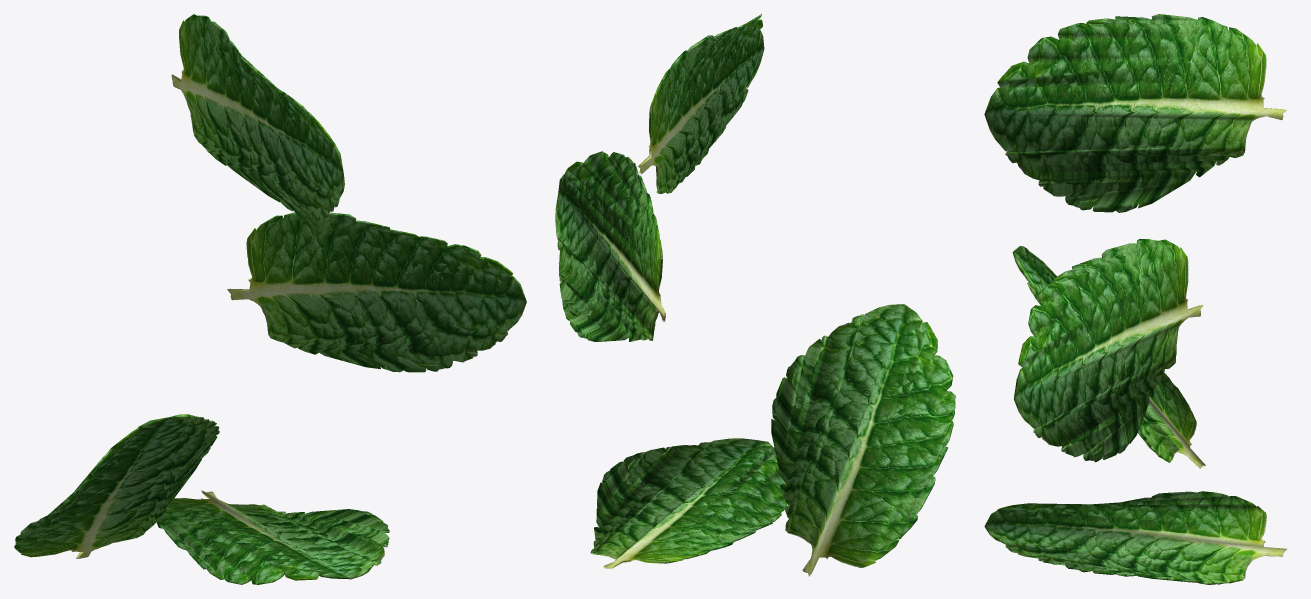
File: mint group.fbx
3 views of the same model, side by side, from view 1: azimuth 30°, elevation 25°; view 2: azimuth 150°, elevation 25°; view 3: azimuth 270°, elevation 25° (orthographic). The views are drawn at different scales.
Parts seen in each view (by area): view 1: menta__3_, menta__2_, menta, menta__1_; view 2: menta__1_, menta, menta__3_, menta__2_; view 3: menta__2_, menta__3_, menta, menta__1_.
Boxes of the visible parts, x1,y1,x2,y2 form: menta__3_: [227, 212, 526, 372]; menta__2_: [171, 14, 344, 220]; menta: [156, 490, 389, 584]; menta__1_: [14, 414, 219, 558]; menta__1_: [771, 304, 955, 576]; menta: [590, 438, 786, 568]; menta__3_: [555, 151, 665, 341]; menta__2_: [638, 14, 764, 193]; menta__2_: [984, 14, 1286, 212]; menta__3_: [1014, 239, 1203, 462]; menta: [984, 491, 1286, 584]; menta__1_: [1012, 246, 1205, 468].
Bounding box in the file's own units: 6.86 × 7.82 × 4.18.
